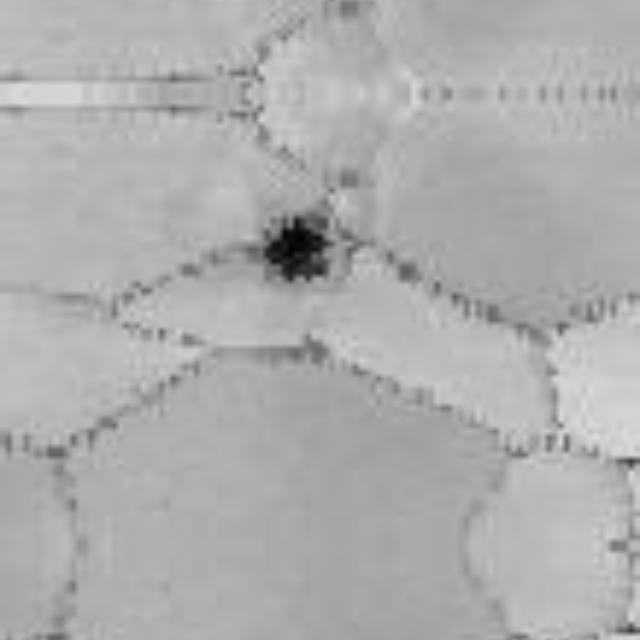good_void: (254, 196, 357, 302)
